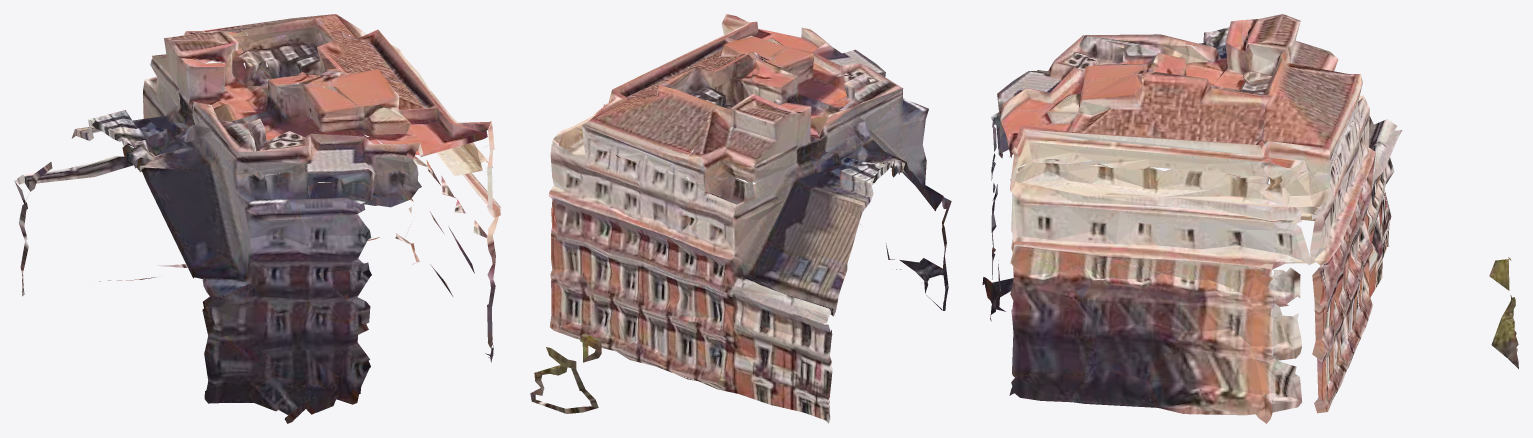
The picture shows the model from 3 angles, left to right: view 1: azimuth 30°, elevation 25°; view 2: azimuth 150°, elevation 25°; view 3: azimuth 270°, elevation 25°; orthographic projection. The views are drawn at different scales.
Parts seen in each view (by area): view 1: Mesh_0; view 2: Mesh_0; view 3: Mesh_0.
Boxes of the visible parts, x1,y1,x2,y2 form: Mesh_0: (14,14,501,423); Mesh_0: (530,14,951,423); Mesh_0: (982,14,1518,423).
Size of the model in its own units: 30.57 by 24 by 40.65.
Materials: 2 (2 with a texture image).
